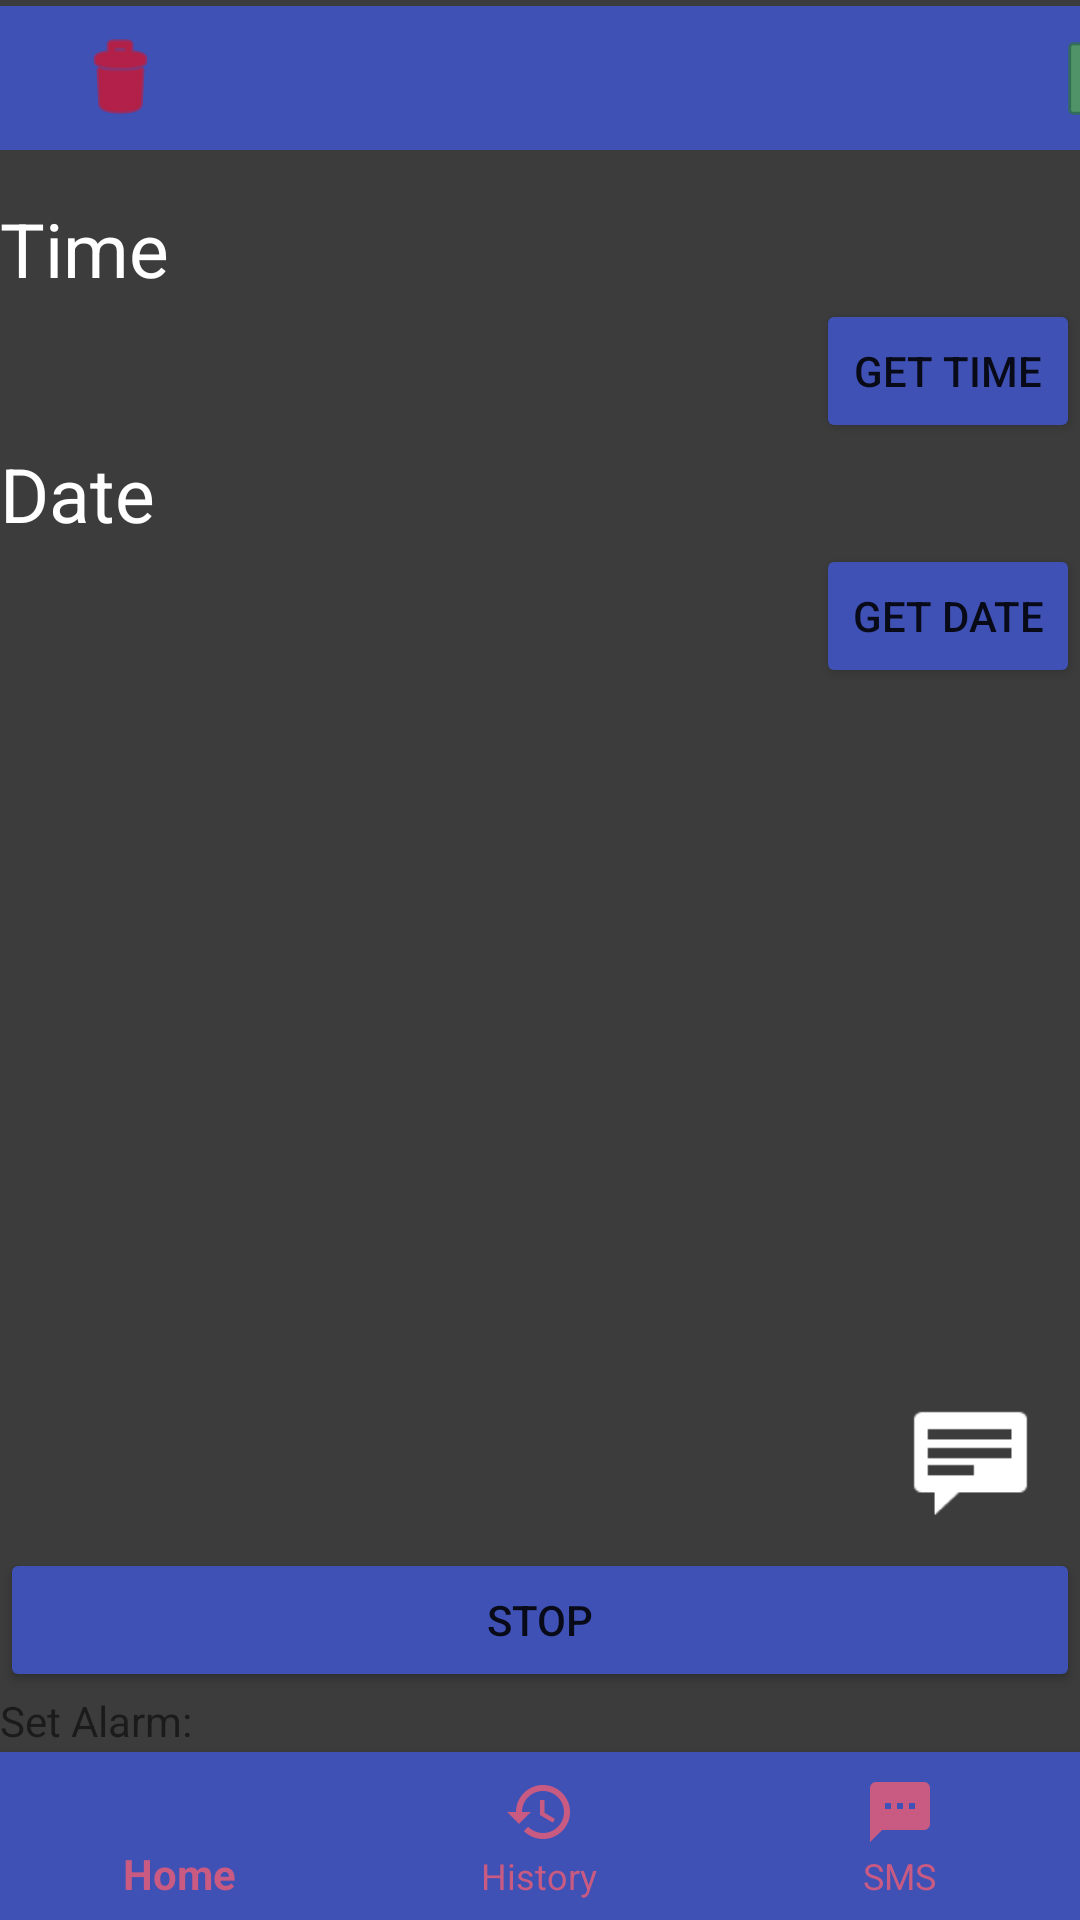

Screen size 1080px x 1920px. Icon name, then its box in pixels as (x1,y1,x2,y2):
chat: (913,1411,1028,1515)
